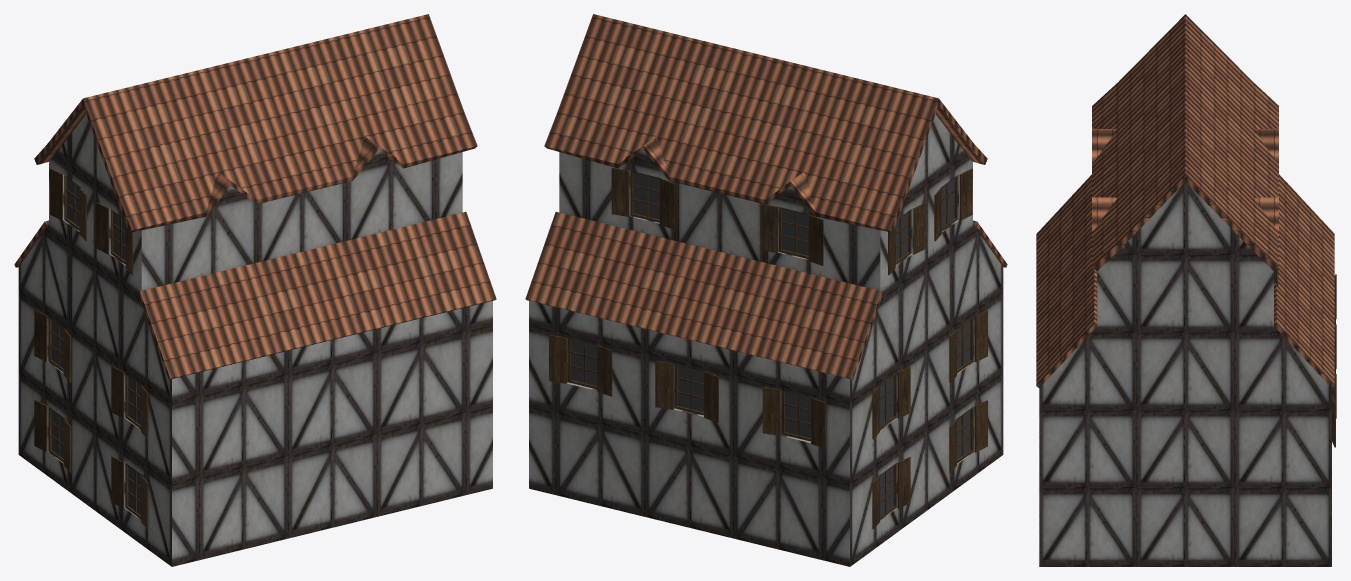
The model's file is House 8.fbx.
The picture shows the model from 3 angles, left to right: view 1: azimuth 30°, elevation 25°; view 2: azimuth 150°, elevation 25°; view 3: azimuth 270°, elevation 25°; orthographic projection. The views are drawn at different scales.
Visible parts, largest first — view 1: House 1.026, House 1.008, House 1.009, House 1.033; view 2: House 1.026, House 1.008, House 1.009, House 1.033; view 3: House 1.026, House 1.008, House 1.009.
Part boxes in pixels (bbox=[...]): House 1.026: bbox=[18, 114, 492, 566]; House 1.008: bbox=[14, 14, 496, 379]; House 1.009: bbox=[34, 168, 148, 529]; House 1.033: bbox=[48, 175, 142, 518]; House 1.026: bbox=[529, 114, 1003, 566]; House 1.008: bbox=[525, 14, 1007, 379]; House 1.009: bbox=[549, 168, 987, 529]; House 1.033: bbox=[568, 170, 973, 519]; House 1.026: bbox=[1039, 182, 1331, 566]; House 1.008: bbox=[1036, 14, 1334, 387]; House 1.009: bbox=[1274, 268, 1336, 447].
Bounding box in the file's own units: 1634 × 1876 × 1285.
